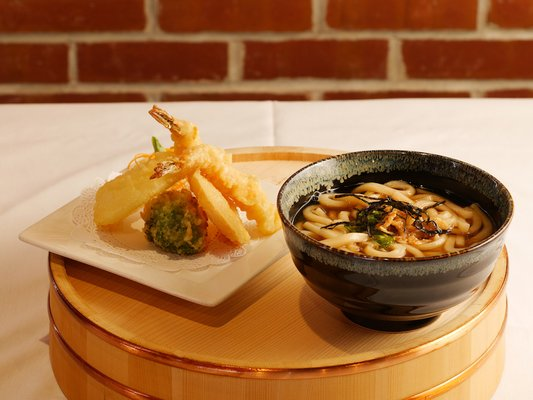sushi: (277, 150, 515, 333)
